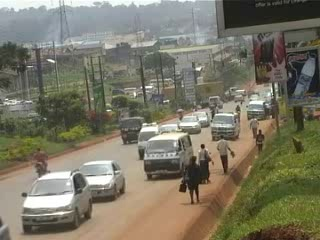Car: (20, 166, 93, 232), (77, 159, 131, 203), (179, 113, 201, 133), (192, 108, 211, 129), (0, 211, 13, 238), (160, 120, 178, 135)
Motorcycle: (29, 146, 51, 177)
